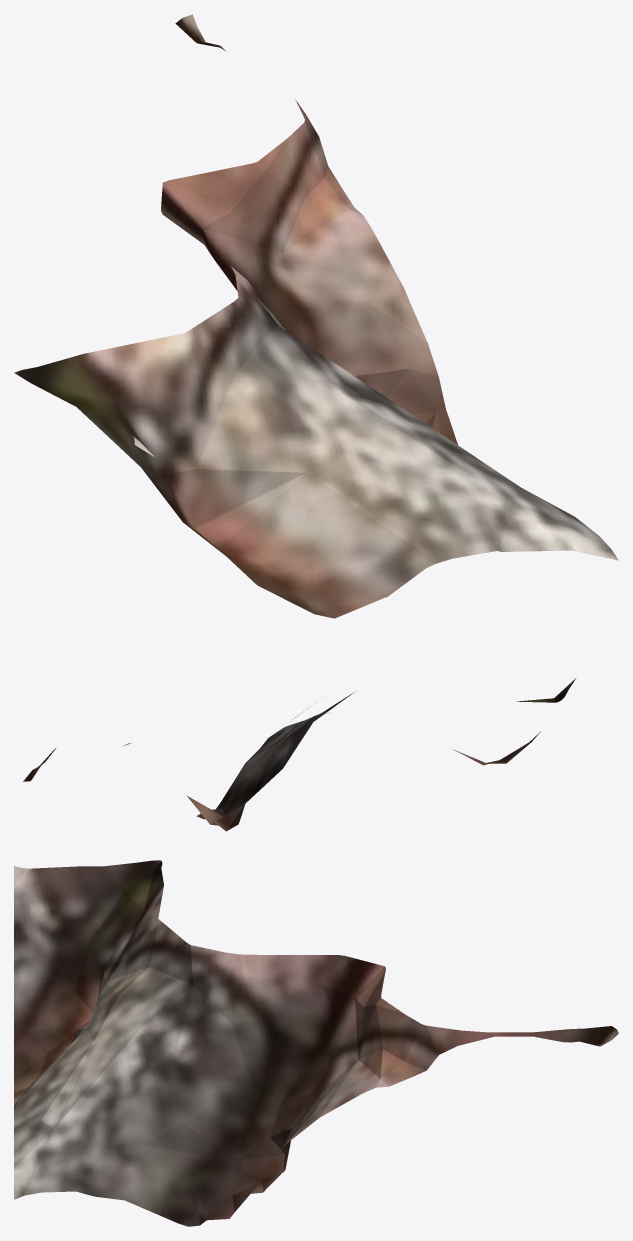
3 renders of one model, top to bottom at view 1: azimuth 30°, elevation 25°; view 2: azimuth 150°, elevation 25°; view 3: azimuth 270°, elevation 25°, orthographic. The views are drawn at different scales.
Size of the model in its own units: 0.2874 by 0.1492 by 0.4235.
Materials: 1 (1 with a texture image).
